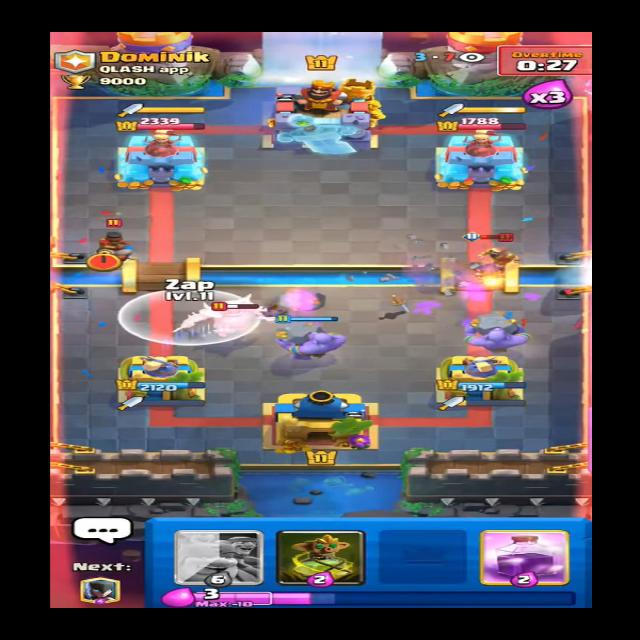evo-wizard: (462, 263, 521, 283)
pekka: (177, 293, 274, 339)
ram-rider: (88, 215, 143, 269)
wizard: (471, 231, 530, 272)
